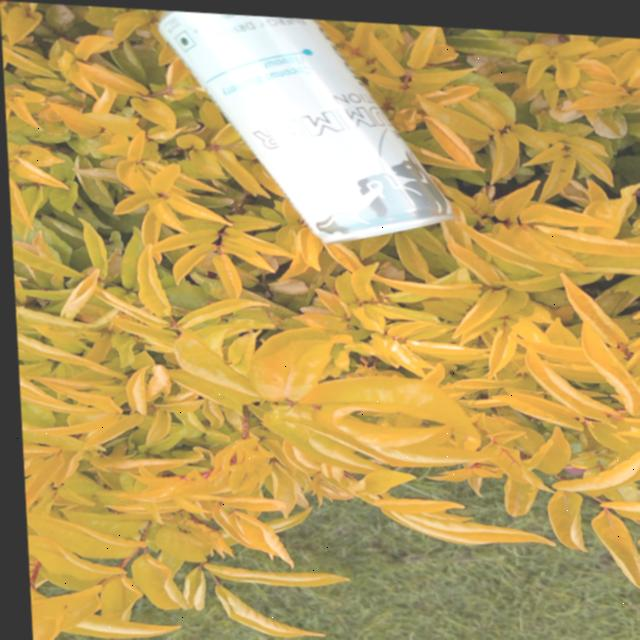Redbull Summer Edition: (128, 6, 455, 243)
